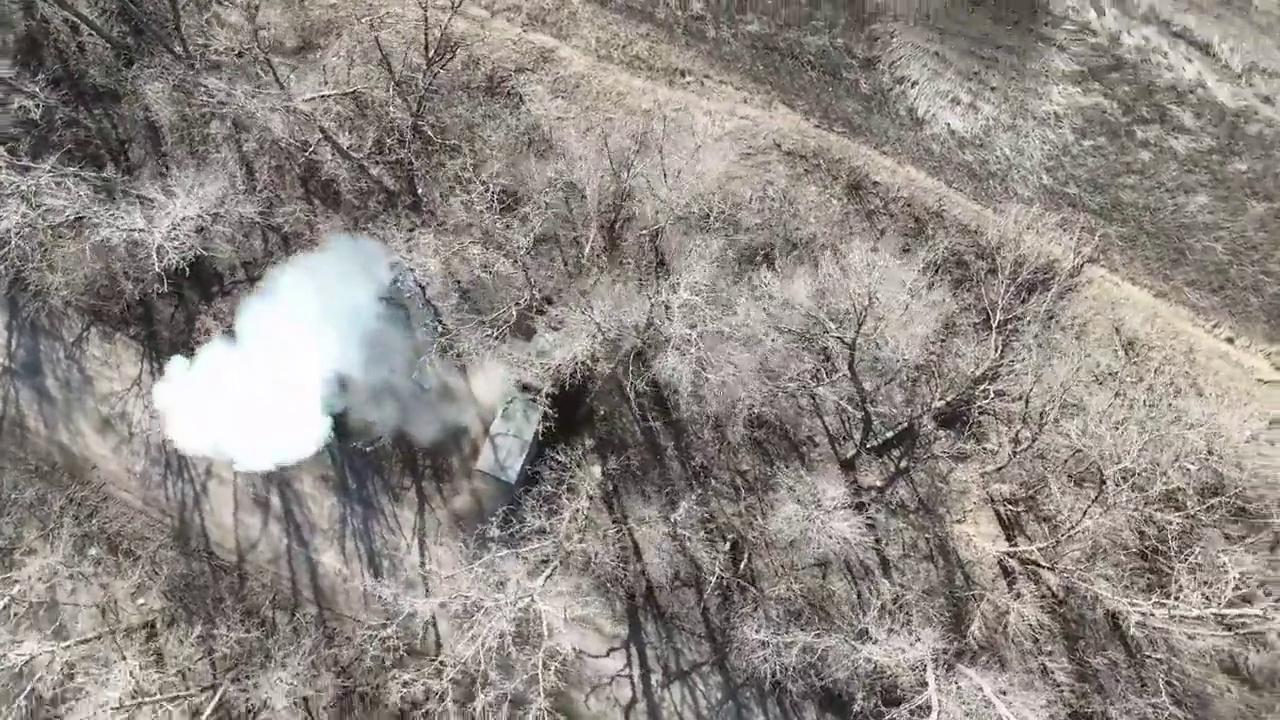vehicle: (474, 335, 574, 485)
